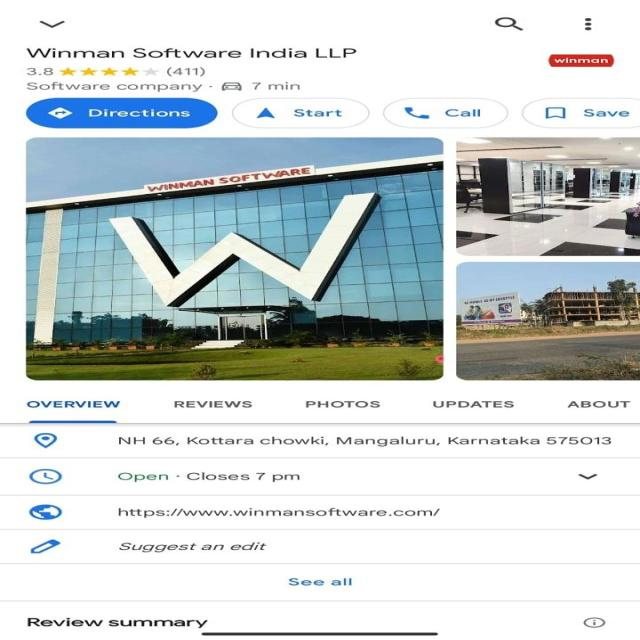Drawer: (27, 503, 64, 521), (28, 468, 62, 486), (28, 539, 62, 555), (493, 17, 526, 32), (582, 615, 610, 630), (34, 432, 58, 449), (36, 17, 66, 30), (582, 16, 596, 32), (577, 472, 599, 482)
EditText: (27, 137, 442, 381), (454, 137, 640, 256), (458, 263, 640, 381), (61, 67, 160, 77), (546, 54, 618, 67), (220, 81, 244, 92)
Icon: (116, 506, 444, 518)
Modal: (115, 436, 616, 446), (26, 47, 359, 59), (24, 616, 212, 630), (27, 82, 215, 93), (116, 472, 303, 482), (252, 81, 304, 93), (167, 66, 207, 78), (27, 68, 56, 77)
